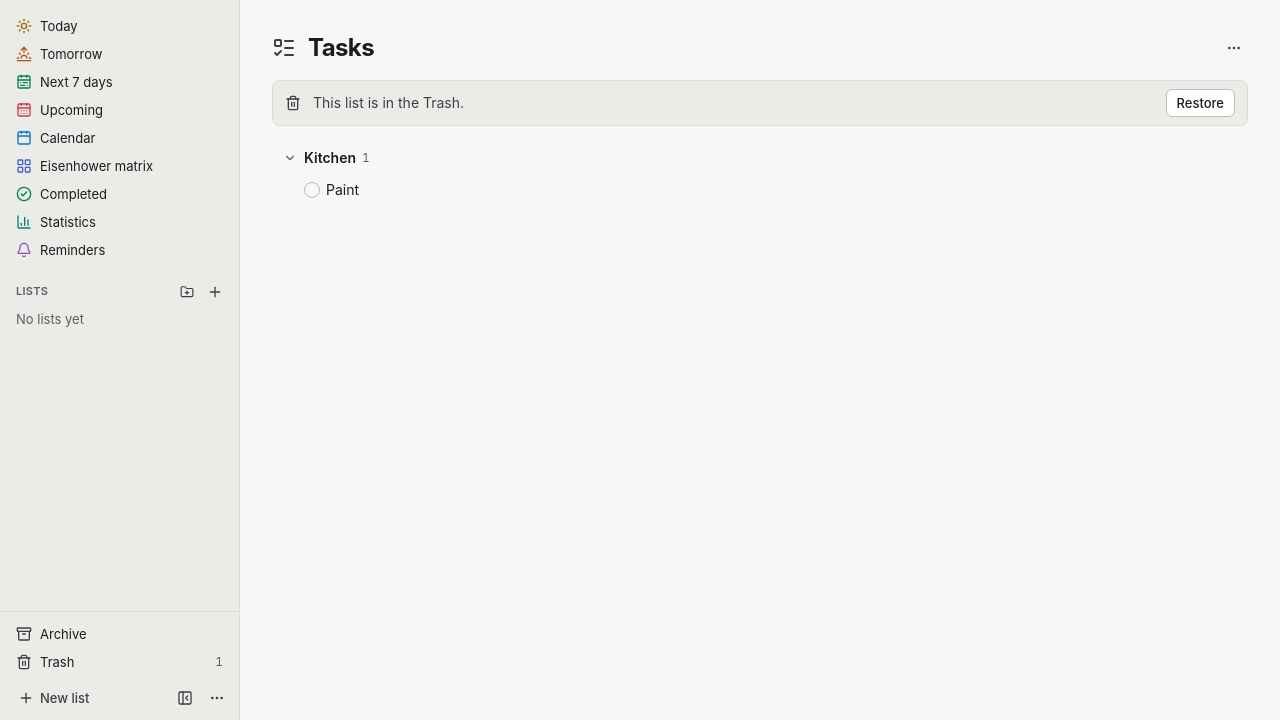
TodoList section read-only › shows headings in a trashed list with collapse only
Double-click the text "Kitchen" at (330, 158), box 304,148 -> 356,168
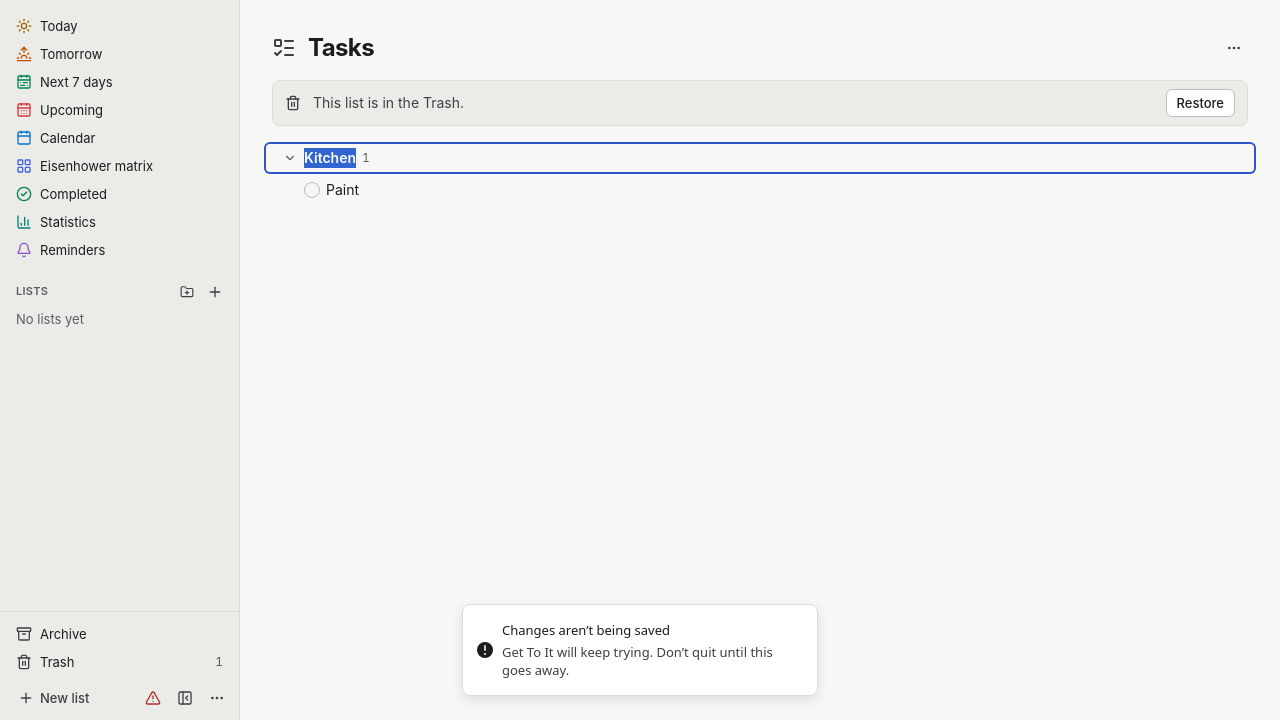
Press F2
Click the button named "Collapse Kitchen" at (290, 158), box 282,150 -> 298,166
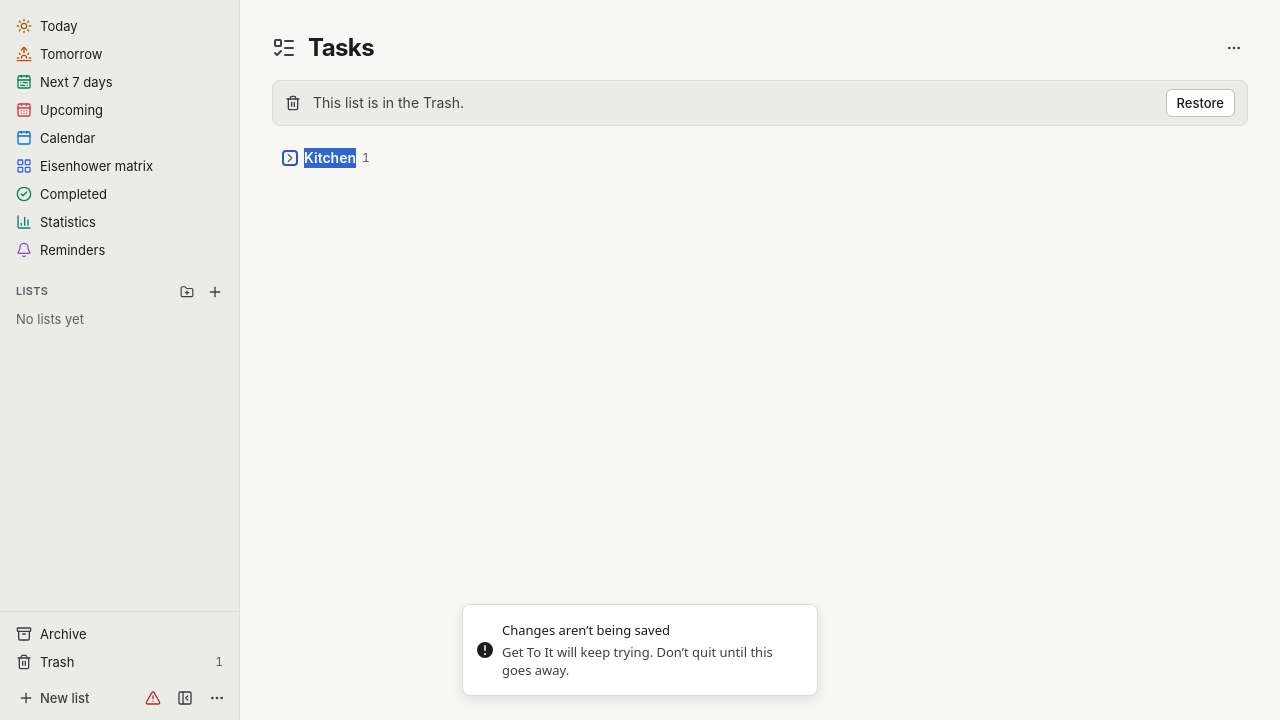
Expected: the checkbox labelled "Paint" is gone
